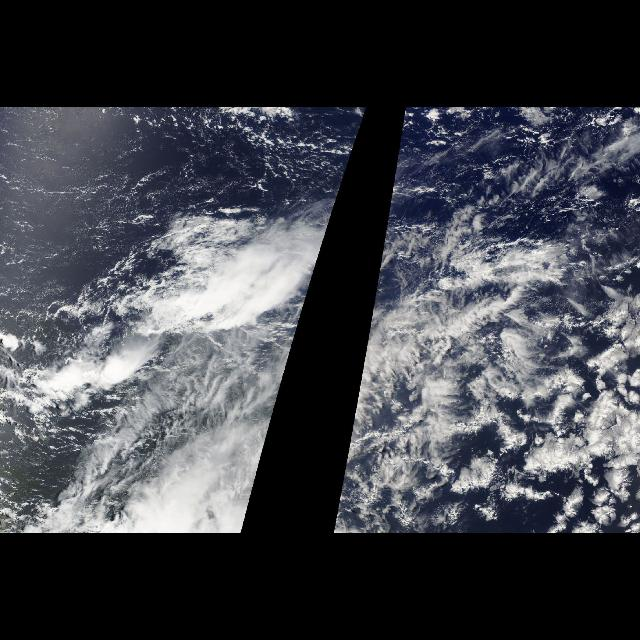Flower: (400, 183, 640, 533)
Sugar: (2, 108, 300, 258)
